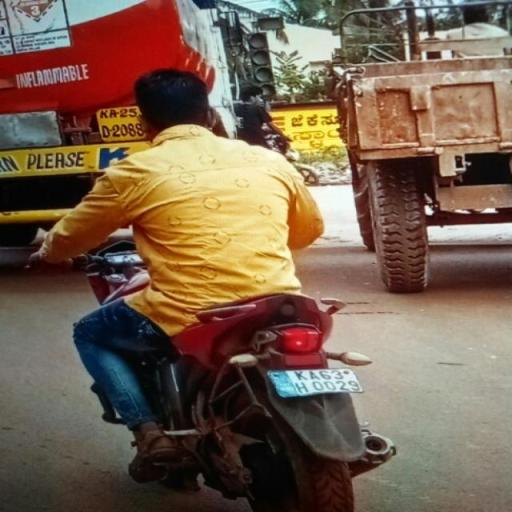bike: (16, 57, 417, 512)
numberplate: (268, 362, 364, 397)
withouthelmet: (129, 58, 208, 132)
